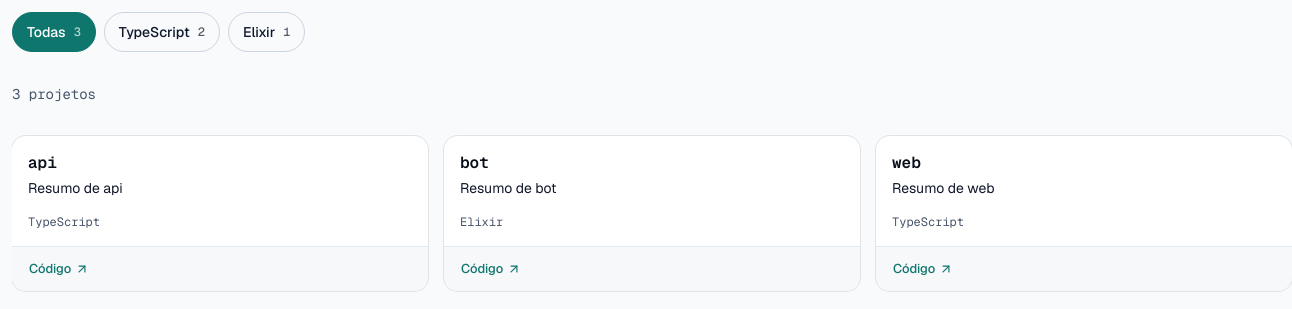
Scenario: ProjectExplorer › filtra por linguagem e atualiza o contador
Click the button "Elixir 1": (267,32) [228, 12, 305, 52]
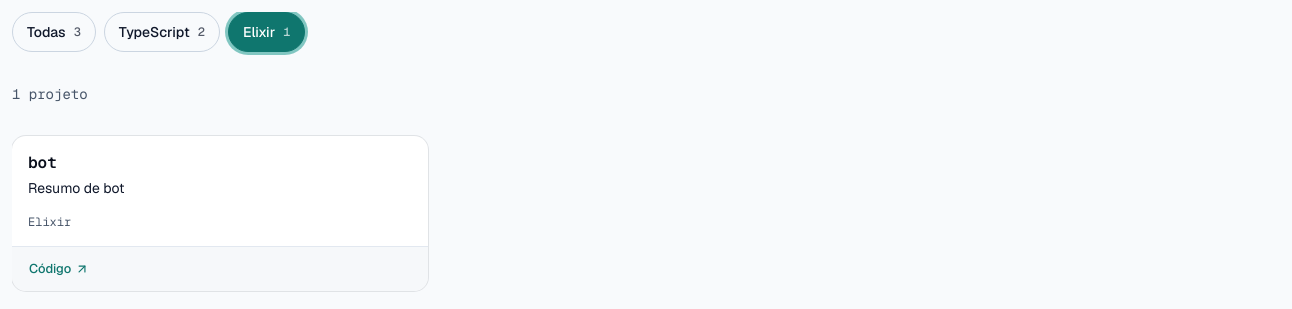
Check: the text "1 projeto" is shown, box [12, 85, 88, 103]
